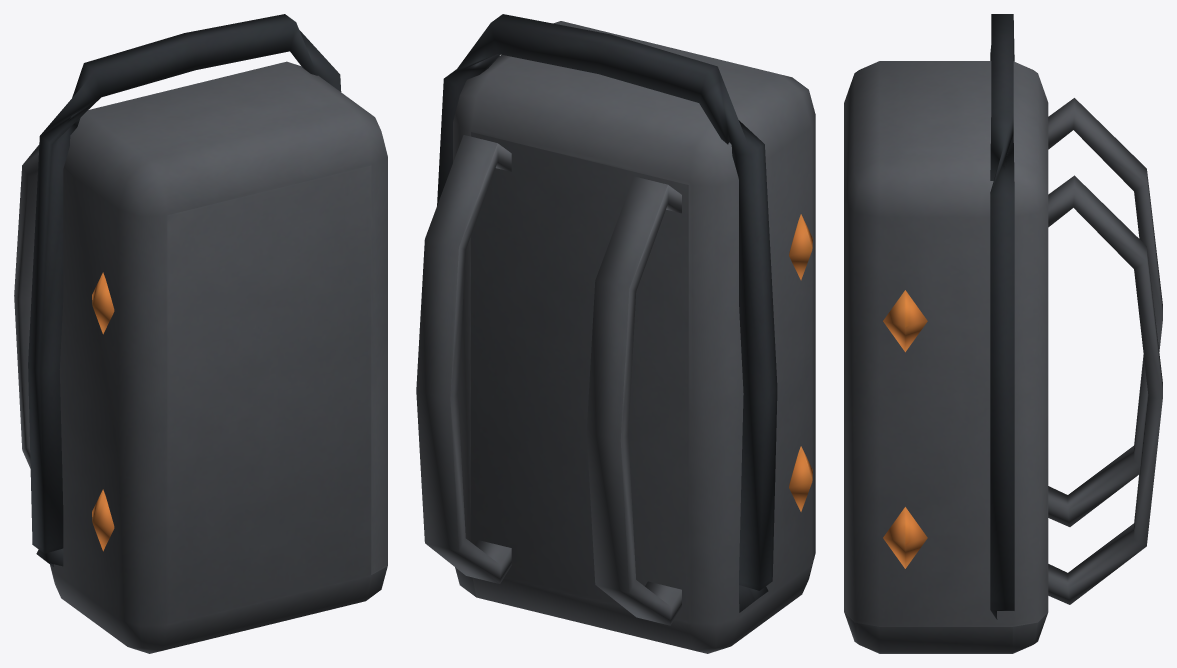
Rendered from SM_Backpack_CarbonFrame.fbx.
3 renders of one model, left to right at view 1: azimuth 30°, elevation 25°; view 2: azimuth 150°, elevation 25°; view 3: azimuth 270°, elevation 25°, orthographic. The views are drawn at different scales.
Visible parts, largest first — view 1: SM_Backpack_CarbonFrame; view 2: SM_Backpack_CarbonFrame; view 3: SM_Backpack_CarbonFrame.
Part boxes in pixels (x1,y1,x2,y2): SM_Backpack_CarbonFrame: (14, 14, 387, 653); SM_Backpack_CarbonFrame: (416, 14, 815, 653); SM_Backpack_CarbonFrame: (844, 14, 1162, 653).
Size of the model in its own units: 35.2 by 31.2 by 59.02.
Materials: 1 (1 with a texture image).
